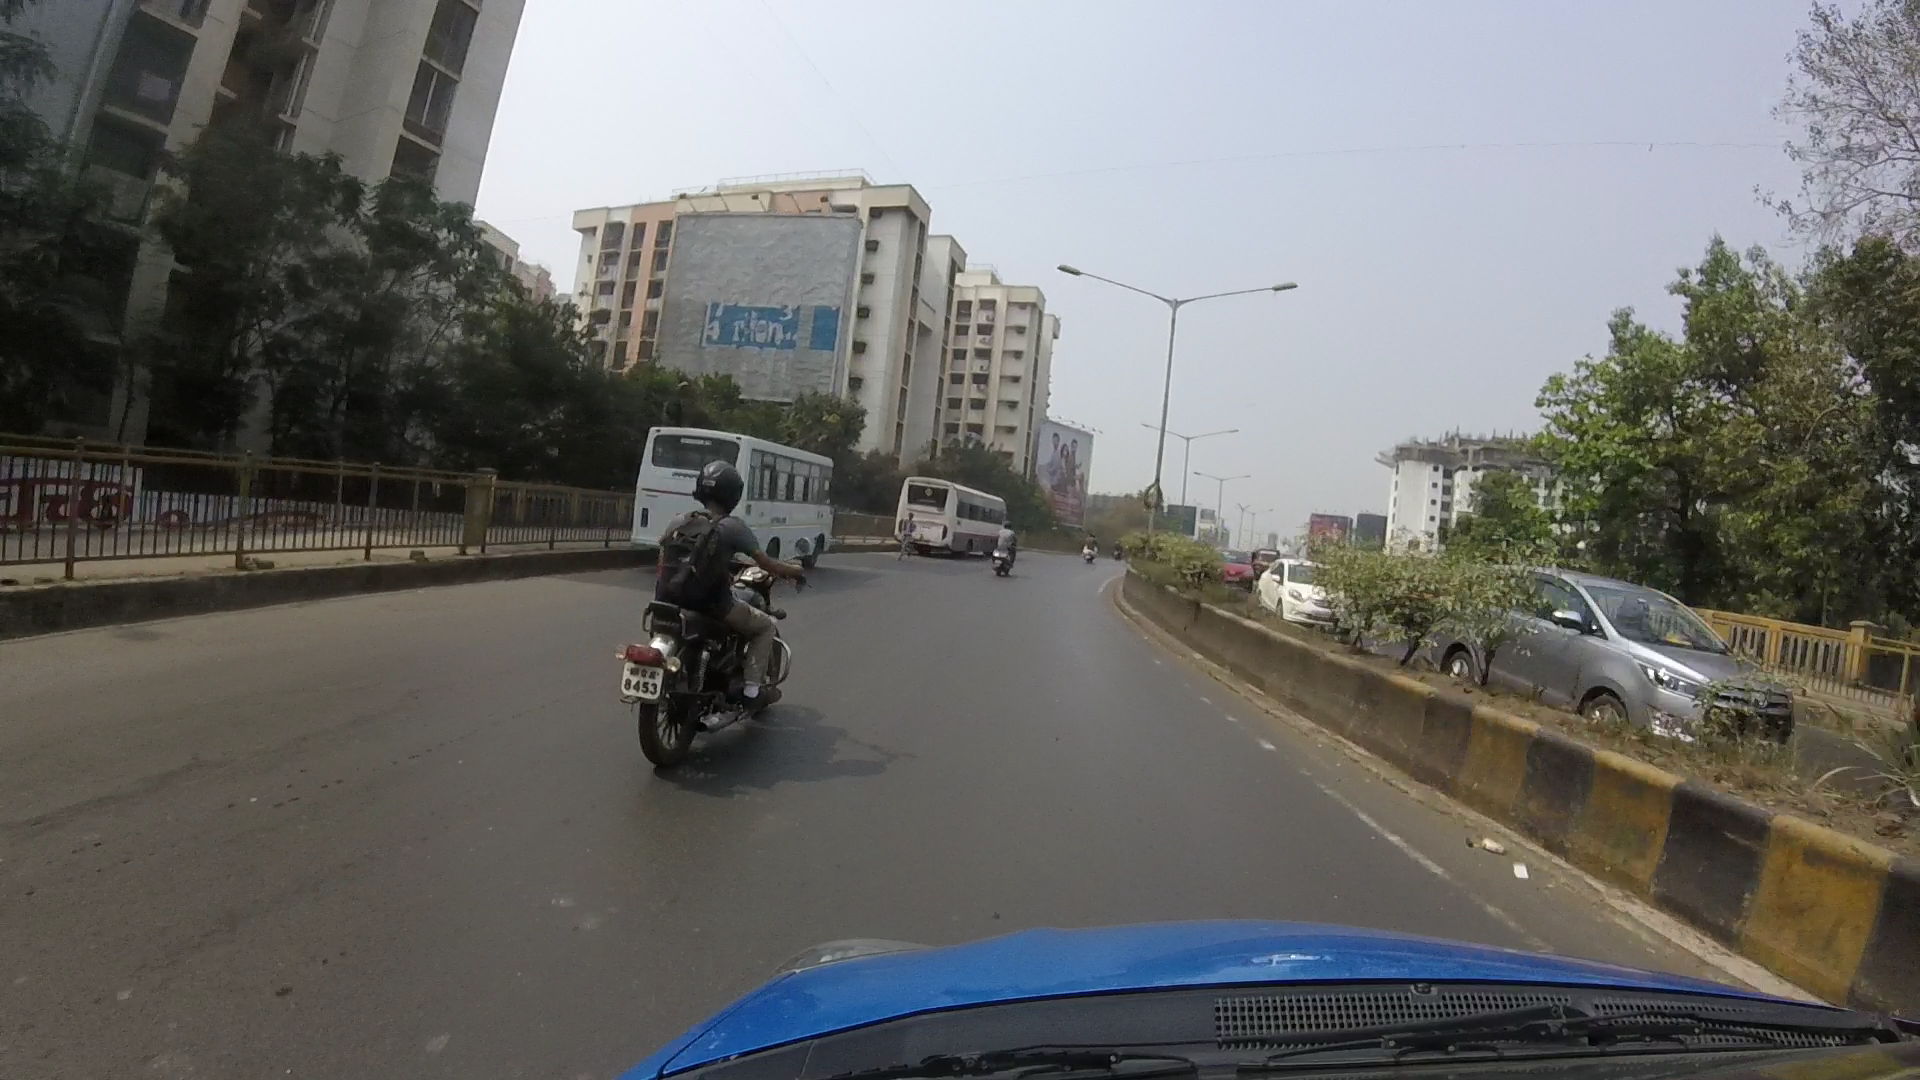bike/scooter: (589, 440, 862, 781)
bus: (562, 378, 851, 568), (895, 444, 1033, 554)
car: (1439, 525, 1811, 795), (1233, 537, 1398, 669)
